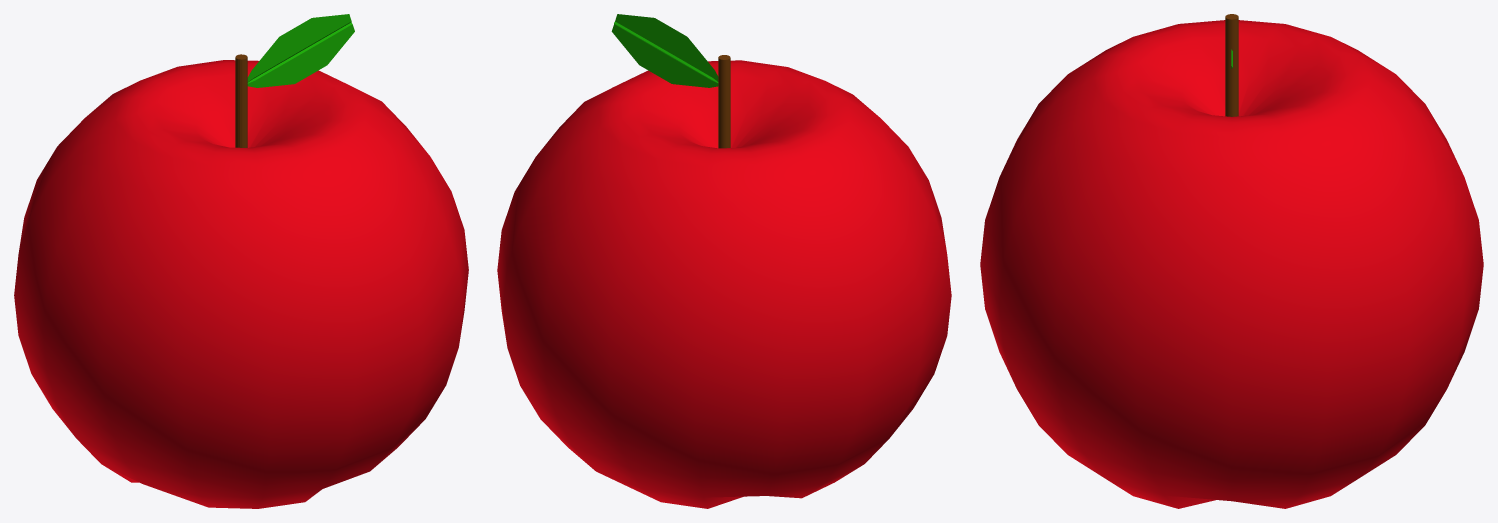
Rendered from Apple.fbx.
3 renders of one model, left to right at view 1: azimuth 30°, elevation 25°; view 2: azimuth 150°, elevation 25°; view 3: azimuth 270°, elevation 25°, orthographic. The views are drawn at different scales.
Visible parts, largest first — view 1: Sphere; view 2: Sphere; view 3: Sphere.
Part boxes in pixels (left/top/right/bottom): Sphere: left=14, top=14, right=468, bottom=508; Sphere: left=497, top=14, right=951, bottom=508; Sphere: left=980, top=14, right=1483, bottom=508.
Size of the model in its own units: 9.7 by 10.02 by 9.7.
